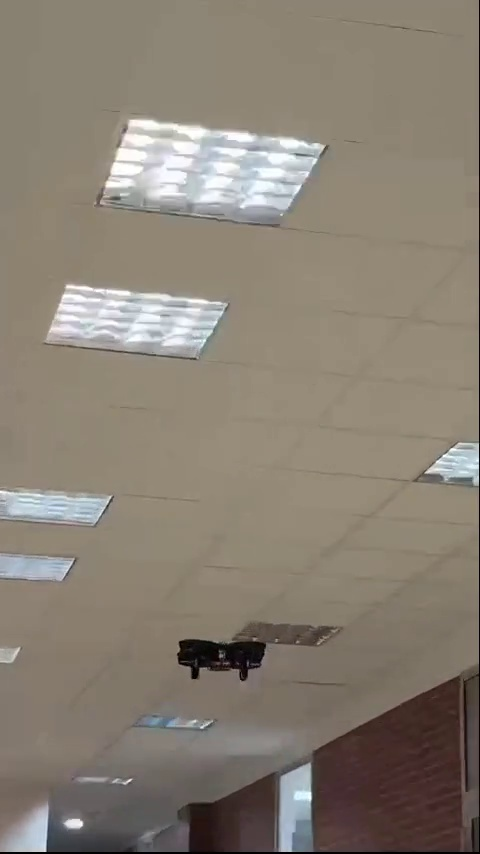drone: (182, 634, 267, 686)
